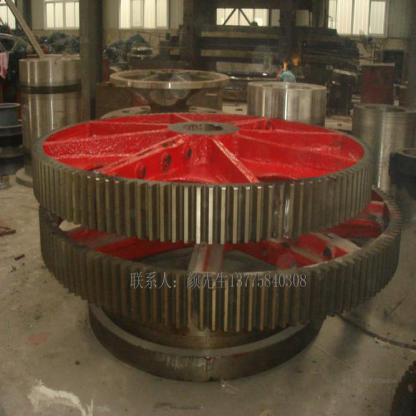FOD: (37, 182, 403, 336), (28, 106, 383, 248)
